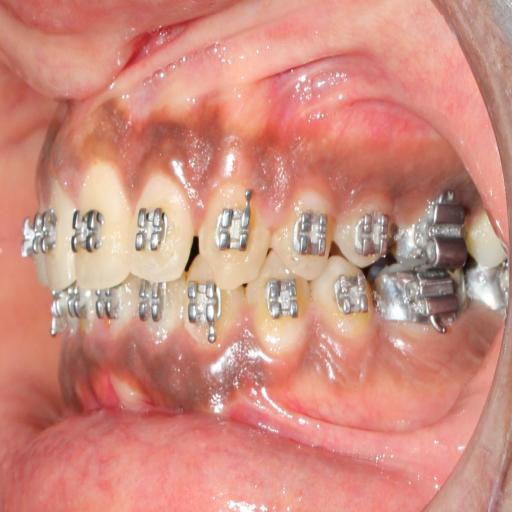correct_brace: (272, 187, 334, 281), (213, 199, 252, 256), (72, 201, 106, 258), (133, 208, 167, 256)
incorrect_brace: (132, 171, 190, 284), (290, 204, 330, 261)
